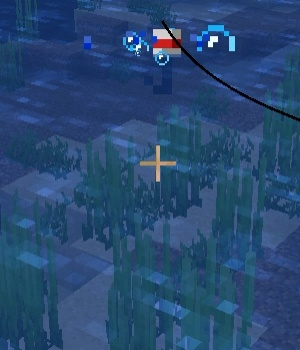up: (145, 23, 187, 92)
